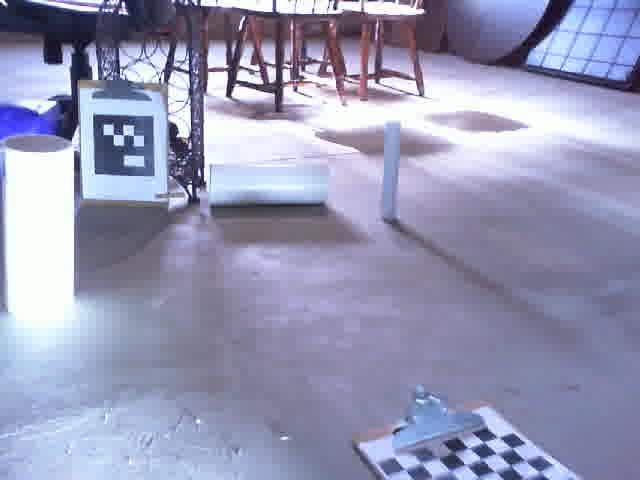coral: (0, 128, 85, 328), (204, 158, 331, 215)
